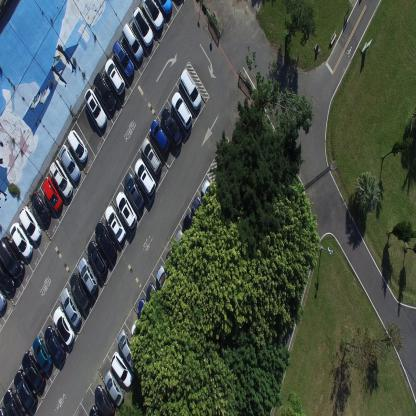car: (0, 235, 25, 279), (179, 67, 202, 111), (14, 368, 37, 412), (21, 350, 45, 392), (160, 105, 183, 148), (84, 88, 107, 130), (49, 159, 73, 199), (132, 6, 154, 48), (93, 72, 116, 112), (59, 288, 82, 328), (52, 306, 75, 346), (94, 220, 116, 261), (104, 204, 127, 243), (18, 205, 42, 242), (9, 222, 33, 259), (122, 22, 144, 62), (171, 90, 193, 130), (134, 156, 156, 196), (111, 349, 133, 389), (124, 172, 145, 213), (115, 190, 137, 229), (141, 136, 162, 176), (112, 40, 134, 78), (59, 144, 81, 182), (78, 257, 98, 297), (104, 58, 125, 96), (87, 240, 108, 278), (118, 328, 137, 370), (44, 326, 66, 362), (30, 190, 51, 227), (70, 272, 90, 310), (104, 370, 124, 408), (42, 175, 63, 211), (182, 212, 203, 248), (150, 118, 170, 155), (67, 128, 88, 163), (32, 336, 52, 372), (191, 194, 211, 230), (141, 0, 164, 31), (146, 280, 165, 317), (201, 178, 220, 214), (94, 384, 115, 416), (156, 265, 175, 300), (2, 388, 26, 415), (137, 297, 155, 330), (174, 228, 192, 260), (0, 262, 16, 296), (165, 249, 182, 281), (131, 319, 148, 348), (157, 0, 173, 17), (0, 288, 7, 315), (88, 403, 100, 415)
